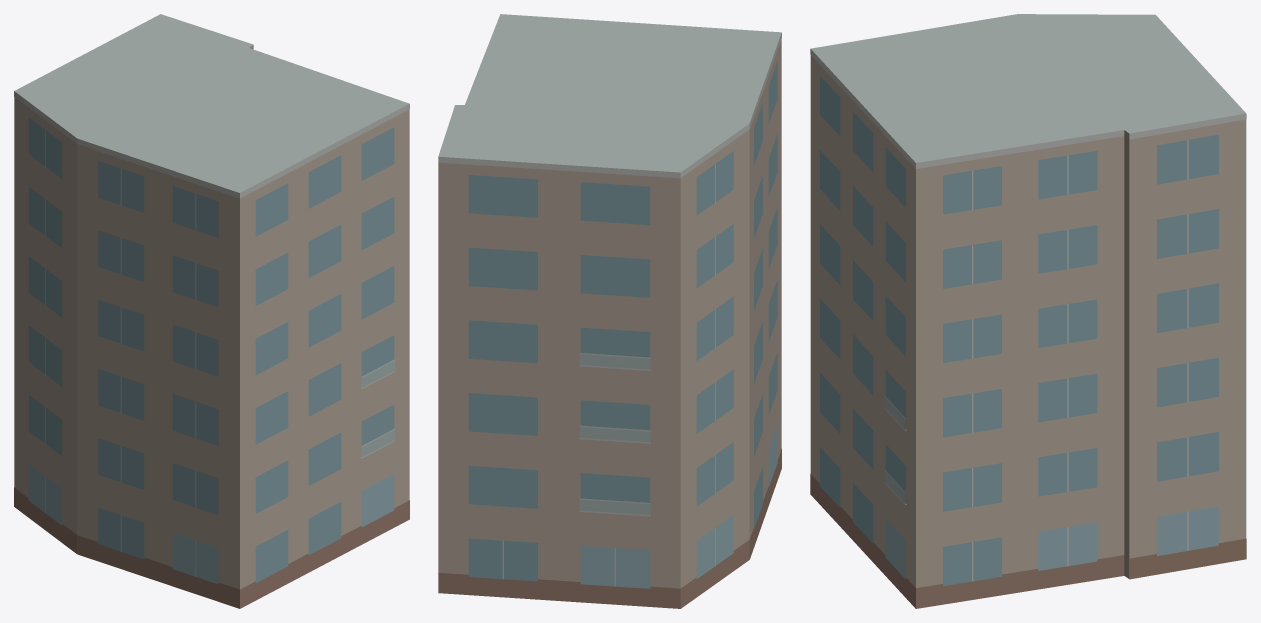
File: survey-upis-32852843.glb
3 views of the same model, side by side, from view 1: azimuth 30°, elevation 25°; view 2: azimuth 150°, elevation 25°; view 3: azimuth 270°, elevation 25° (orthographic). The views are drawn at different scales.
Parts seen in each view (by area): view 1: survey-upis-32852843.tmp; view 2: survey-upis-32852843.tmp; view 3: survey-upis-32852843.tmp.
Boxes of the visible parts, x1,y1,x2,y2 form: survey-upis-32852843.tmp: (14, 14, 409, 608); survey-upis-32852843.tmp: (438, 14, 781, 608); survey-upis-32852843.tmp: (810, 14, 1246, 608).
Bounding box in the file's own units: 13.14 × 18.3 × 16.23.
